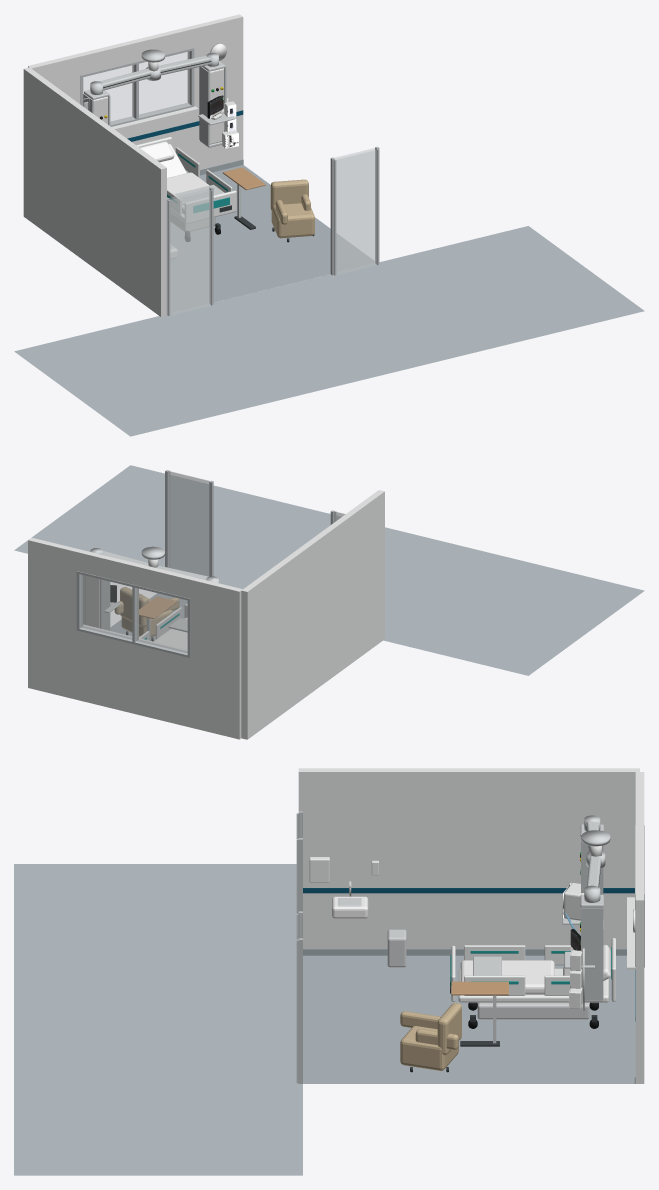
Rendered from UCI_maqueta_web.glb.
3 views of the same model, one above another, from view 1: azimuth 30°, elevation 25°; view 2: azimuth 150°, elevation 25°; view 3: azimuth 270°, elevation 25° (orthographic). The views are drawn at different scales.
Visible parts, largest first — view 1: Piso_pasillo, Muro_izquierdo, Piso_cubiculo, Hoja_corrediza_der, Hoja_corrediza_izq, Muro_fondo_alto, Vidrio_fijo_izq, Vidrio_fijo_der, Ventana_vidrio, Muro_fondo_bajo, Muro_fondo_der, Sillon_base (+5 smaller); view 2: Piso_pasillo, Muro_izquierdo, Muro_fondo_bajo, Ventana_vidrio, Muro_fondo_alto, Vidrio_fijo_der, Hoja_corrediza_der, Muro_fondo_izq, Muro_fondo_der, Columna_der, Ventana_marco_h, Sillon_respaldo (+7 smaller); view 3: Piso_pasillo, Muro_izquierdo, Piso_cubiculo, Columna_riel_der.001, Cama_base, Franja_azul_izq, Muro_fondo_alto, Sillon_base, Colchon_piernas, Zocalo_izq, Cama_bastidor, Muro_fondo_bajo (+10 smaller).
Boxes of the visible parts, box(x1,y1,x2,y2) form: Piso_pasillo: box(14, 226, 644, 436); Muro_izquierdo: box(23, 67, 166, 316); Piso_cubiculo: box(170, 165, 374, 312); Hoja_corrediza_der: box(336, 149, 379, 274); Hoja_corrediza_izq: box(167, 190, 210, 315); Muro_fondo_alto: box(28, 14, 243, 84); Vidrio_fijo_izq: box(169, 188, 210, 313); Vidrio_fijo_der: box(334, 148, 375, 272); Ventana_vidrio: box(83, 51, 189, 123); Muro_fondo_bajo: box(116, 93, 243, 172); Muro_fondo_der: box(194, 38, 243, 105); Sillon_base: box(271, 203, 314, 238); Piso_pasillo: box(14, 465, 644, 675); Muro_izquierdo: box(241, 490, 384, 739); Muro_fondo_bajo: box(28, 616, 241, 739); Ventana_vidrio: box(81, 575, 187, 652); Muro_fondo_alto: box(28, 537, 242, 612); Vidrio_fijo_der: box(168, 471, 209, 576); Hoja_corrediza_der: box(170, 471, 209, 575); Muro_fondo_izq: box(190, 601, 241, 668); Muro_fondo_der: box(28, 561, 76, 628); Columna_der: box(85, 575, 99, 628); Ventana_marco_h: box(76, 626, 190, 657); Sillon_respaldo: box(120, 587, 148, 627); Piso_pasillo: box(14, 864, 302, 1175); Muro_izquierdo: box(298, 768, 639, 948); Piso_cubiculo: box(303, 955, 634, 1083); Columna_riel_der.001: box(581, 907, 603, 999); Cama_base: box(477, 1002, 589, 1019); Franja_azul_izq: box(303, 888, 634, 893); Muro_fondo_alto: box(635, 772, 644, 926); Sillon_base: box(400, 1026, 458, 1070); Colchon_piernas: box(460, 960, 554, 994); Zocalo_izq: box(303, 949, 626, 955); Cama_bastidor: box(458, 968, 608, 1002); Muro_fondo_bajo: box(635, 995, 644, 1083).
Bounding box in the file's own units: 10.2 × 2.8 × 8.73.
27 materials, 4 textured.
